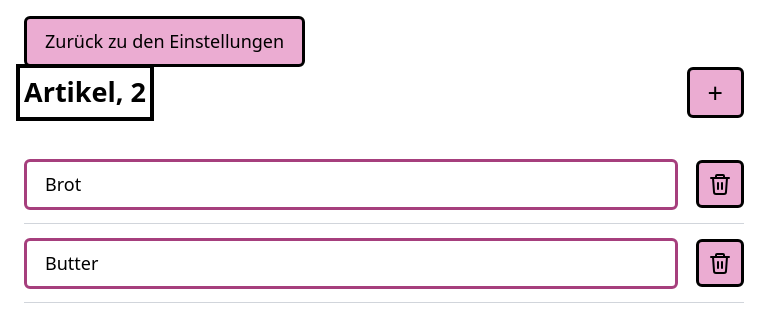
Test: KnownItemsArea › asks before deleting a known item
Click the button named "Löschen, Butter": (720, 263) [696, 239, 744, 287]
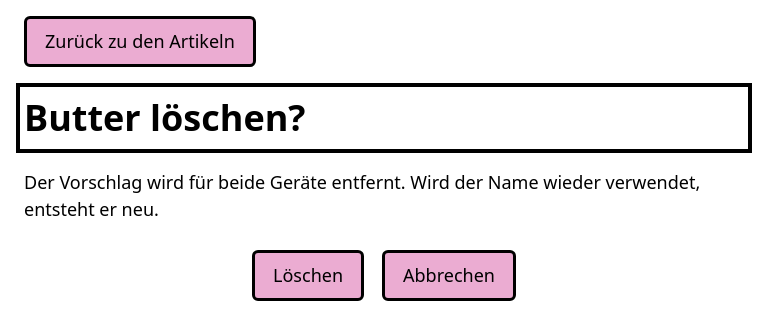
Expected: the heading "Butter löschen?" is shown, [24, 93, 306, 142]
